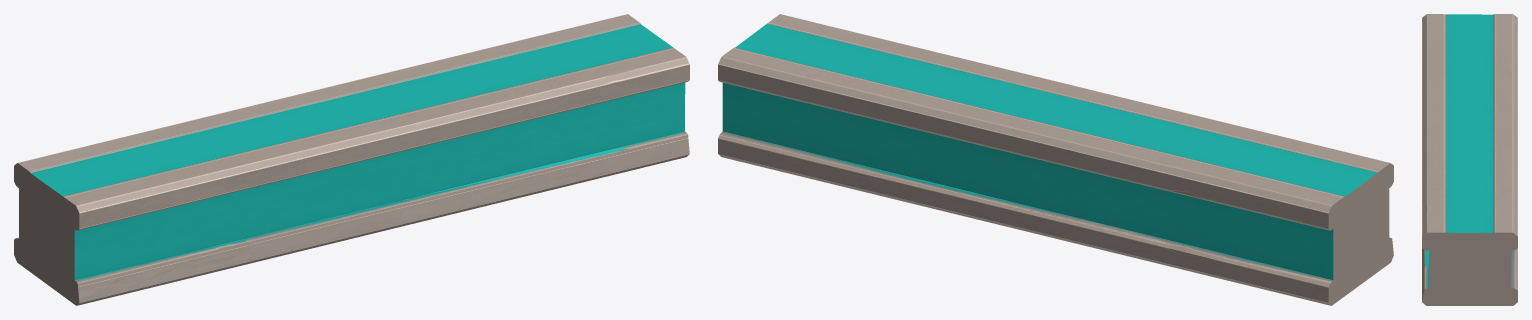
The model's file is edge_teal.glb.
The picture shows the model from 3 angles, left to right: view 1: azimuth 30°, elevation 25°; view 2: azimuth 150°, elevation 25°; view 3: azimuth 270°, elevation 25°; orthographic projection. The views are drawn at different scales.
Parts seen in each view (by area): view 1: edge_teal; view 2: edge_teal; view 3: edge_teal.
Boxes of the visible parts, x1,y1,x2,y2 form: edge_teal: [14, 14, 689, 305]; edge_teal: [718, 14, 1393, 305]; edge_teal: [1422, 14, 1517, 305].
Bounding box in the file's own units: 2.8 × 0.4382 × 0.519.
1 material, 1 textured.
